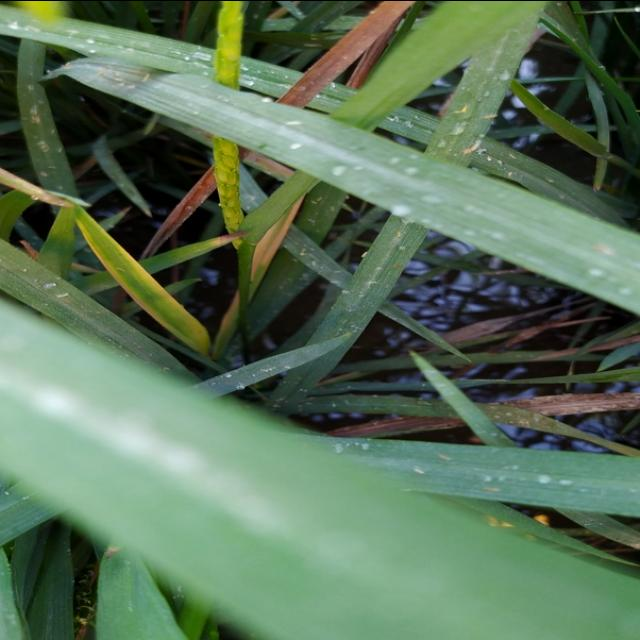Brown spot: (199, 212, 270, 264)
